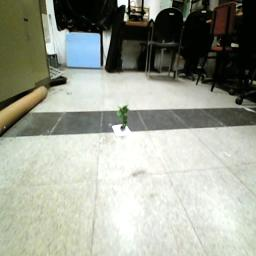herb: (118, 104, 130, 131)
